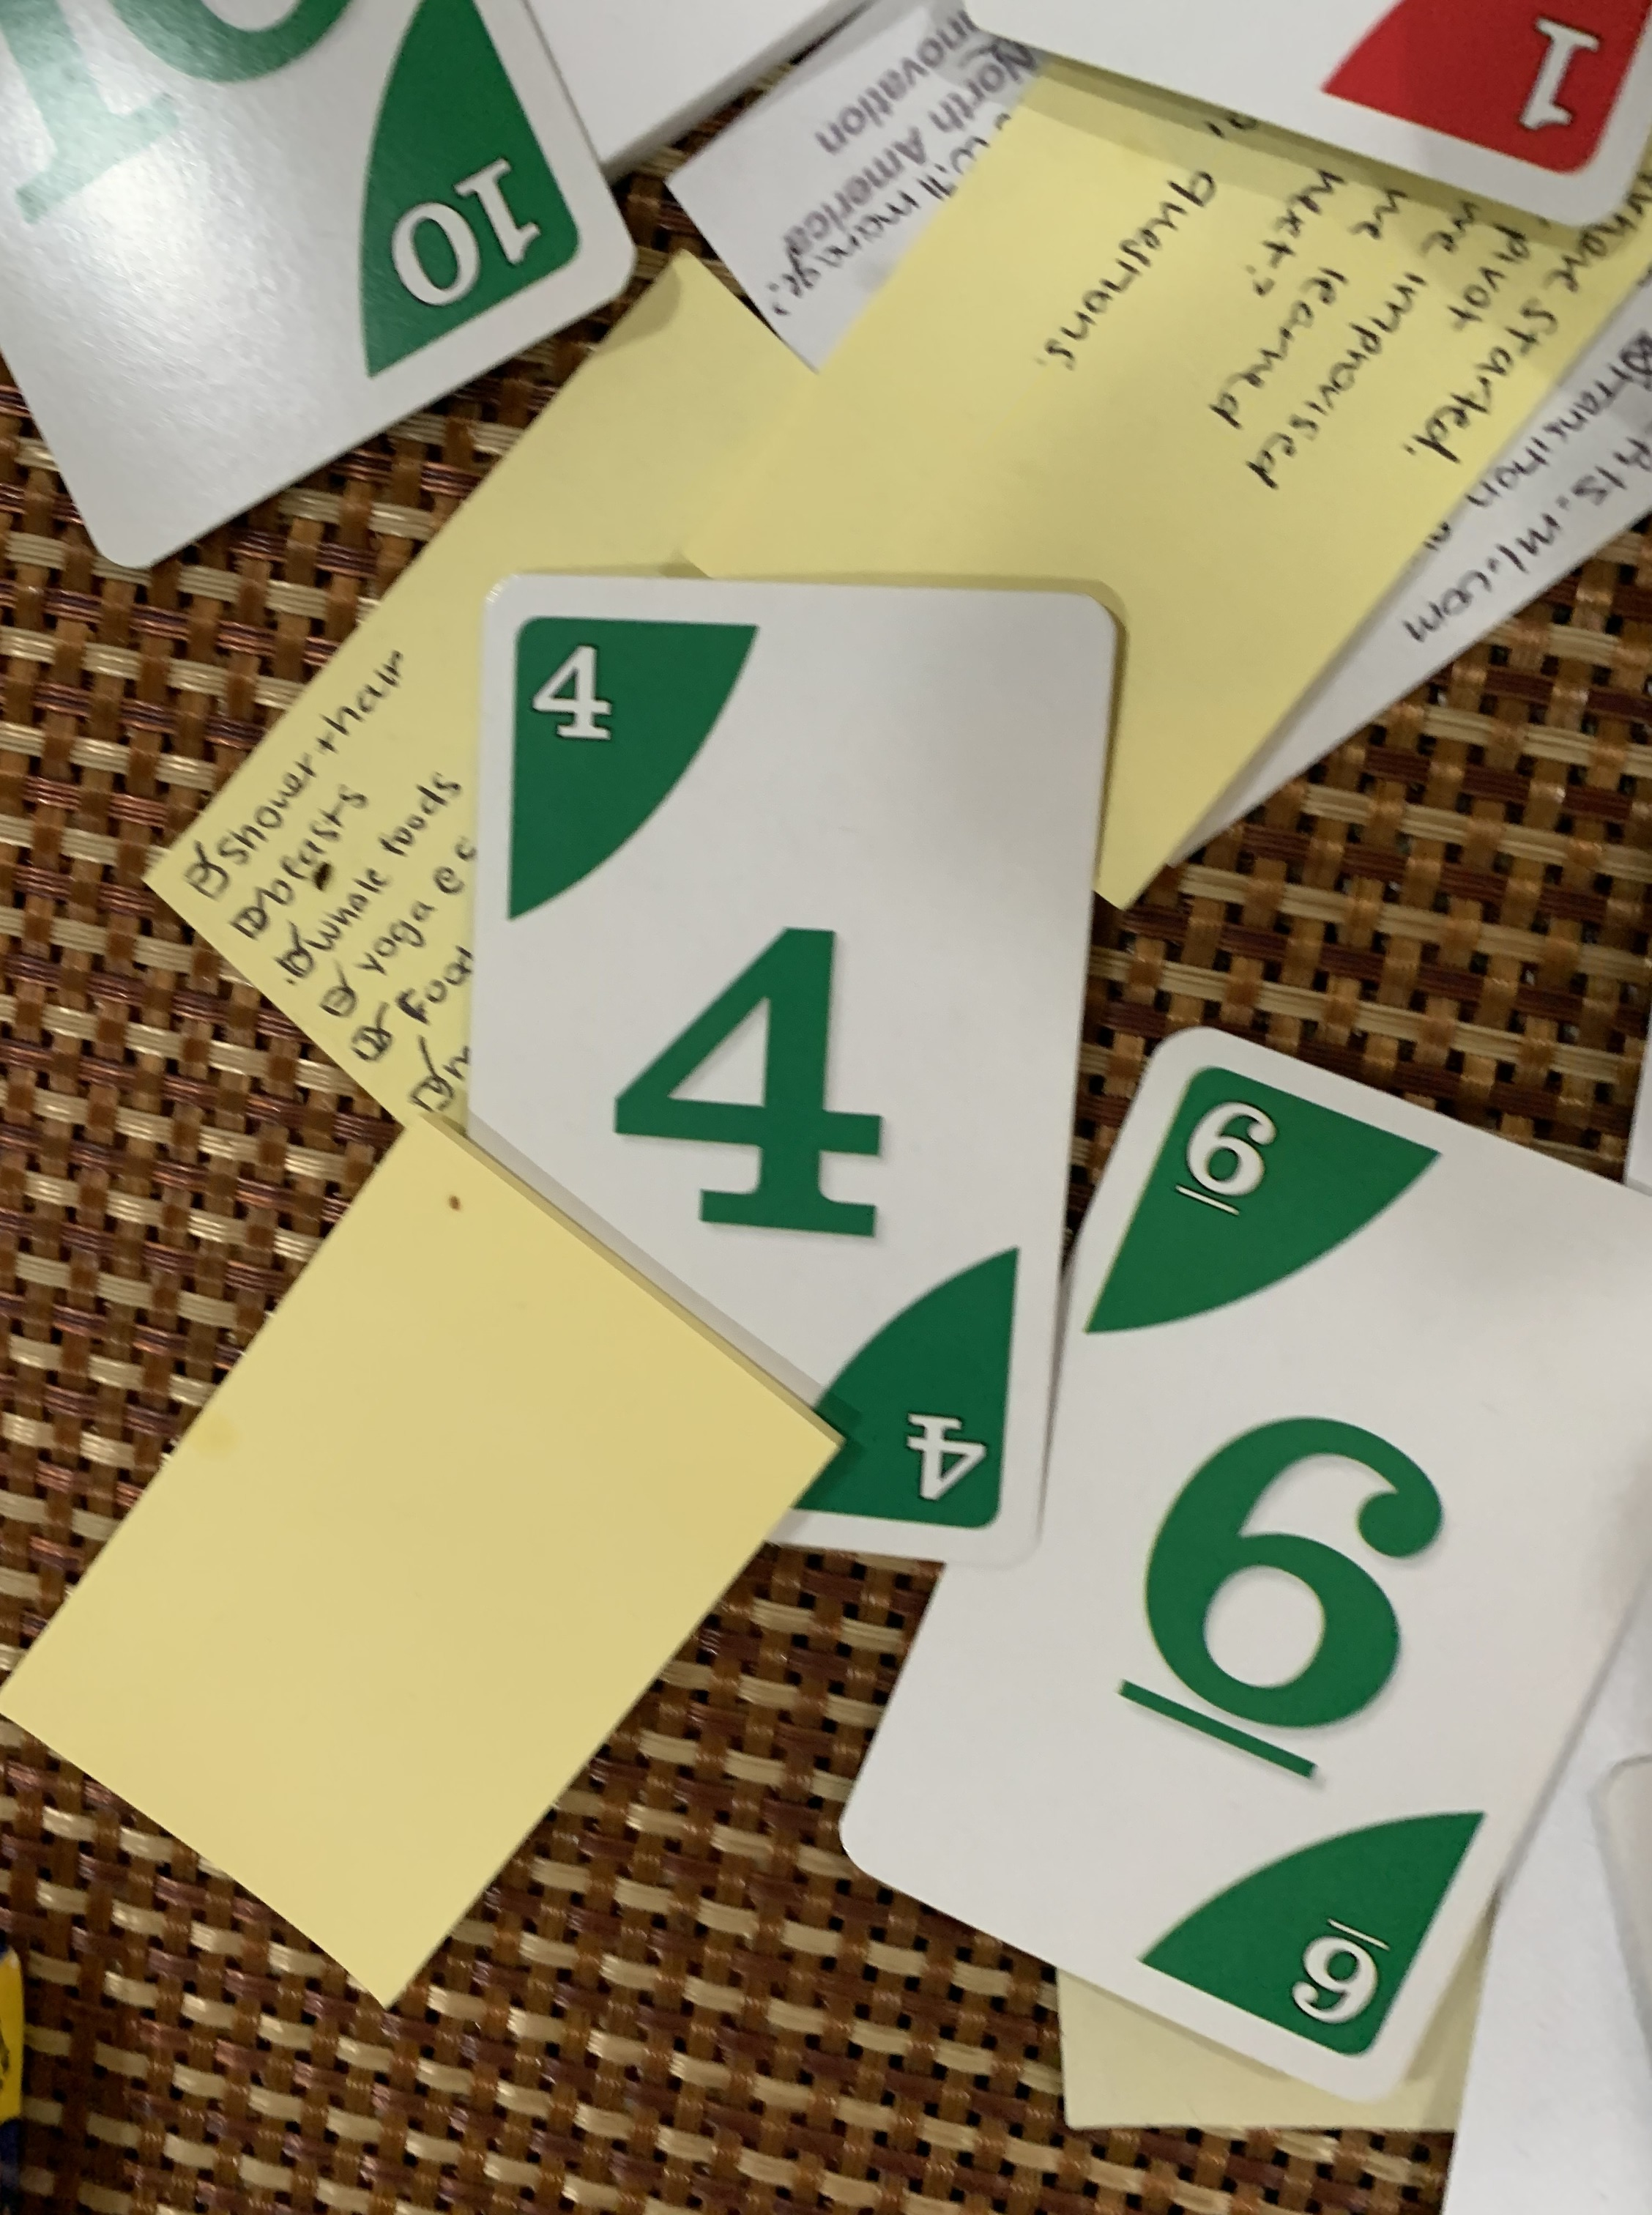four: (437, 550, 1144, 1573)
six: (812, 1012, 1652, 2147)
